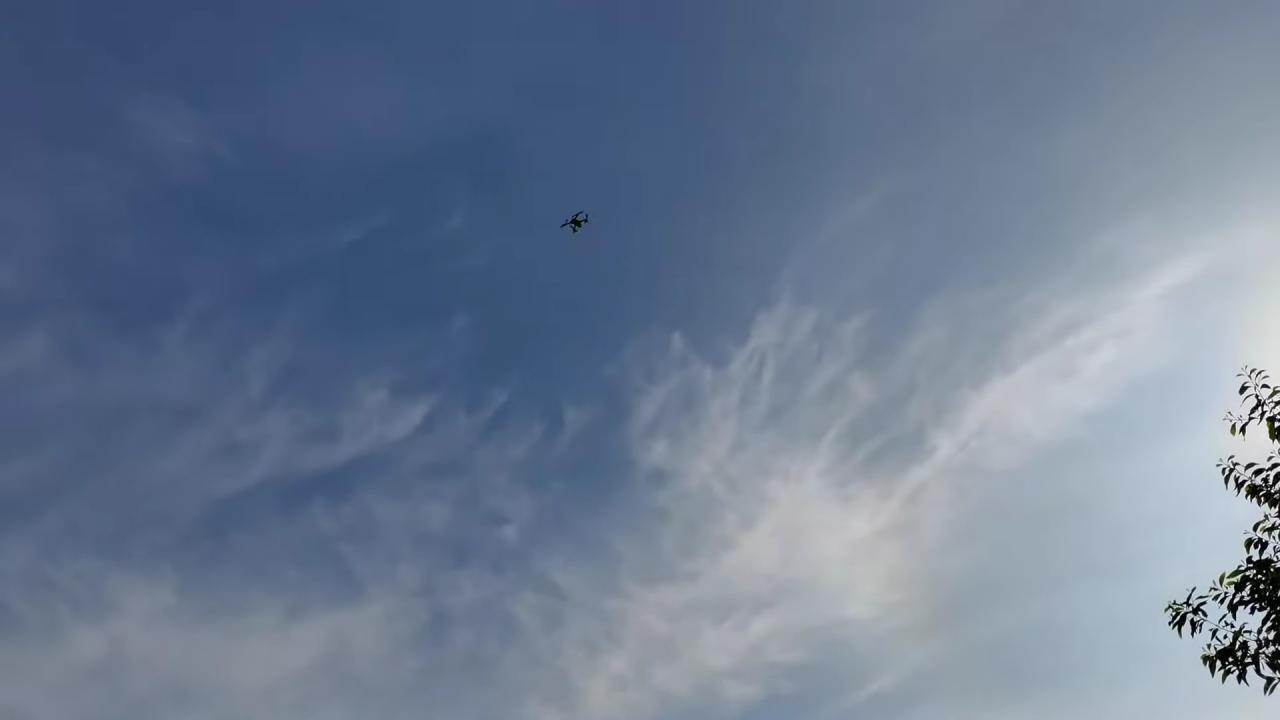Drone: (554, 204, 597, 240)
